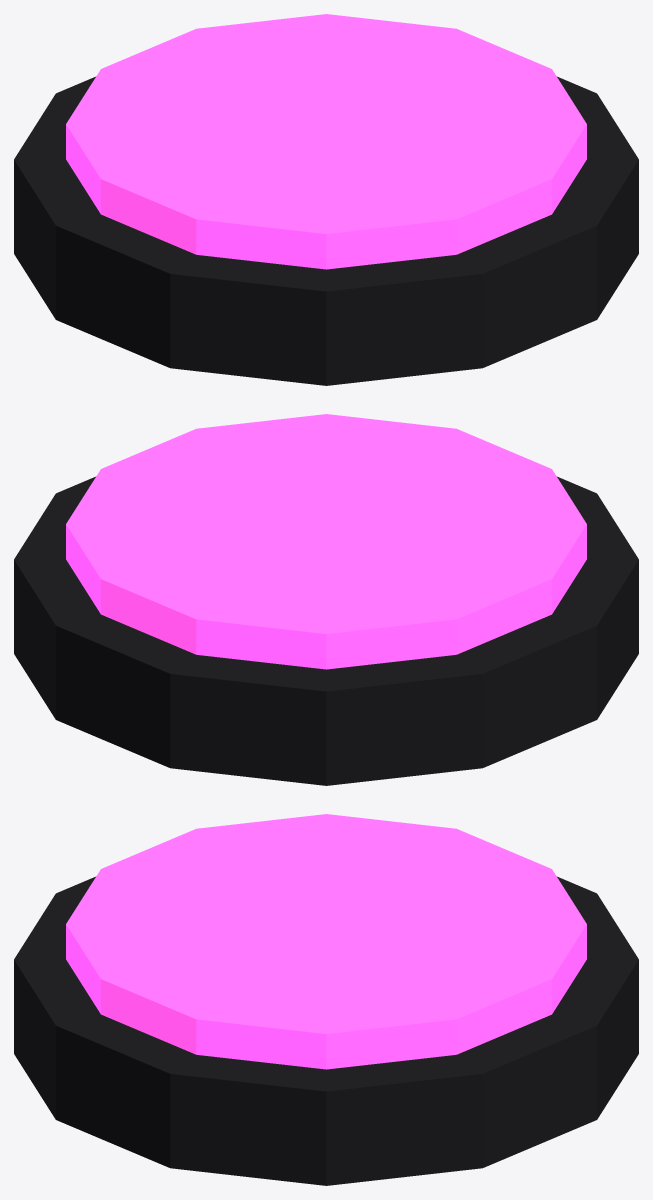
File: PRP_Coaster_NCL_v001.glb
The picture shows the model from 3 angles, top to bottom: view 1: azimuth 30°, elevation 25°; view 2: azimuth 150°, elevation 25°; view 3: azimuth 270°, elevation 25°; orthographic projection.
Visible parts, largest first — view 1: PRP_Coaster_NCL_v001; view 2: PRP_Coaster_NCL_v001; view 3: PRP_Coaster_NCL_v001.
Part boxes in pixels (<box>): PRP_Coaster_NCL_v001: <box>14,14,638,385</box>; PRP_Coaster_NCL_v001: <box>14,414,638,785</box>; PRP_Coaster_NCL_v001: <box>14,814,638,1185</box>.
Bounding box in the file's own units: 0.12 × 0.0275 × 0.12.
